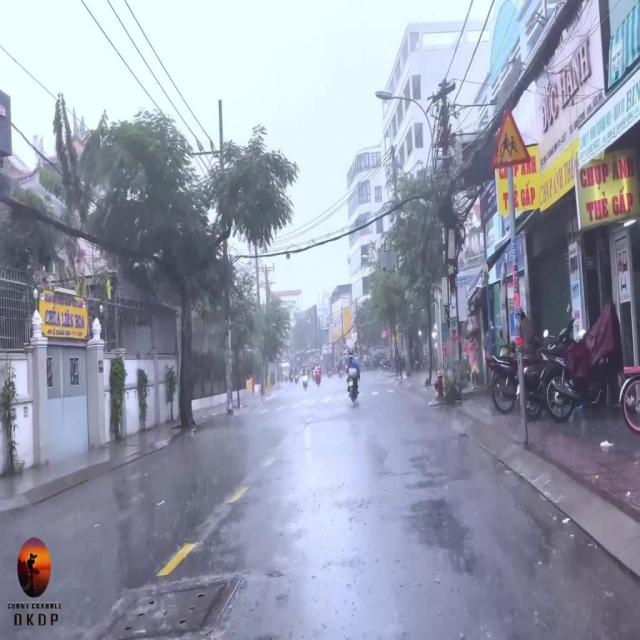chu_y_tre_em: (491, 104, 532, 168)
